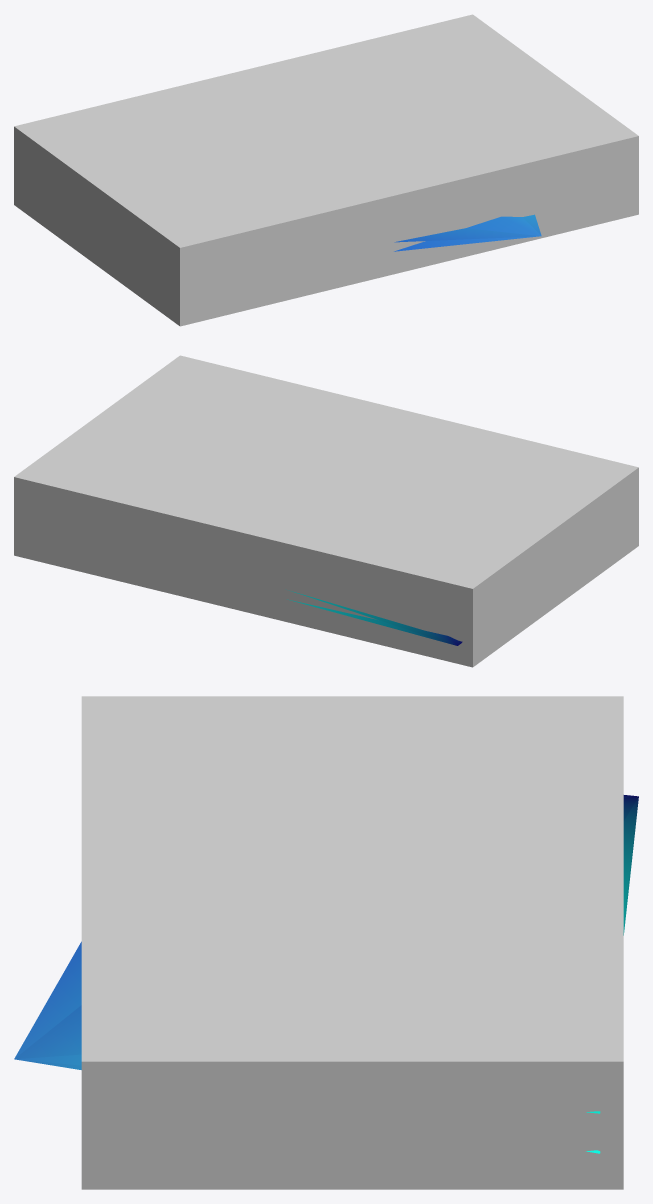
File: lush_ground_02_a.dae
3 views of the same model, one above another, from view 1: azimuth 30°, elevation 25°; view 2: azimuth 150°, elevation 25°; view 3: azimuth 270°, elevation 25° (orthographic). The views are drawn at different scales.
Parts seen in each view (by area): view 1: Untitled, tree_oak_bush_a350, tree_oak_bush_a180; view 2: Untitled, tree_oak_bush_a350, tree_oak_bush_a180; view 3: Untitled, tree_oak_bush_a180, tree_oak_bush_a350.
Part boxes in pixels (box(x1,y1,x2,y2)): Untitled: box(14, 14, 638, 326); tree_oak_bush_a350: box(394, 216, 541, 251); tree_oak_bush_a180: box(394, 214, 541, 242); Untitled: box(14, 355, 638, 667); tree_oak_bush_a350: box(287, 599, 462, 645); tree_oak_bush_a180: box(289, 590, 462, 645); Untitled: box(81, 696, 623, 1189); tree_oak_bush_a180: box(14, 795, 638, 1113); tree_oak_bush_a350: box(14, 796, 638, 1153).
Size of the model in its own units: 1.06 by 0.764 by 0.1729.
